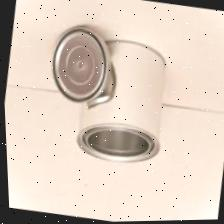metal: (51, 34, 186, 184), (42, 18, 119, 107)
